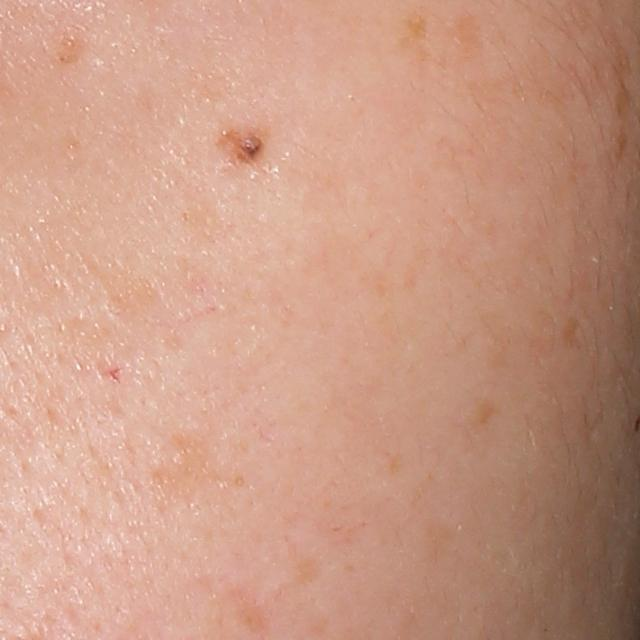melasma: (393, 5, 436, 70), (610, 35, 635, 124), (451, 5, 489, 57), (58, 27, 87, 67)
nevus: (213, 122, 275, 167)
